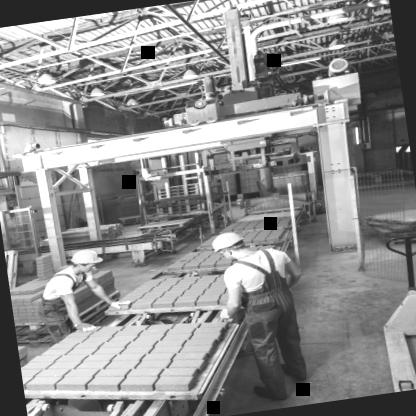helmet: (210, 229, 248, 260), (68, 247, 106, 274)
